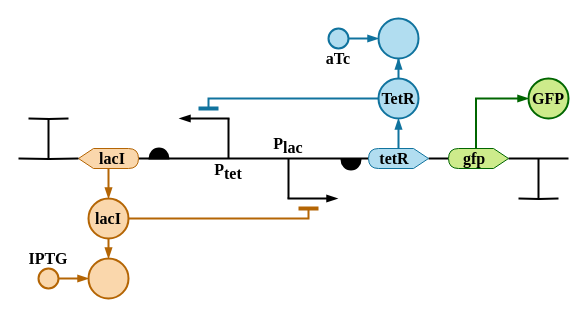
The diagram is 587 pixels wide and 316 high, and some of its shapes have lost their labels. The shapes that lost their labels are listed below. From the top down, each one's box as (x1, y1, x2, y2) in pixels, then its label:
(377, 17, 419, 59): C2
(87, 257, 129, 299): C1
